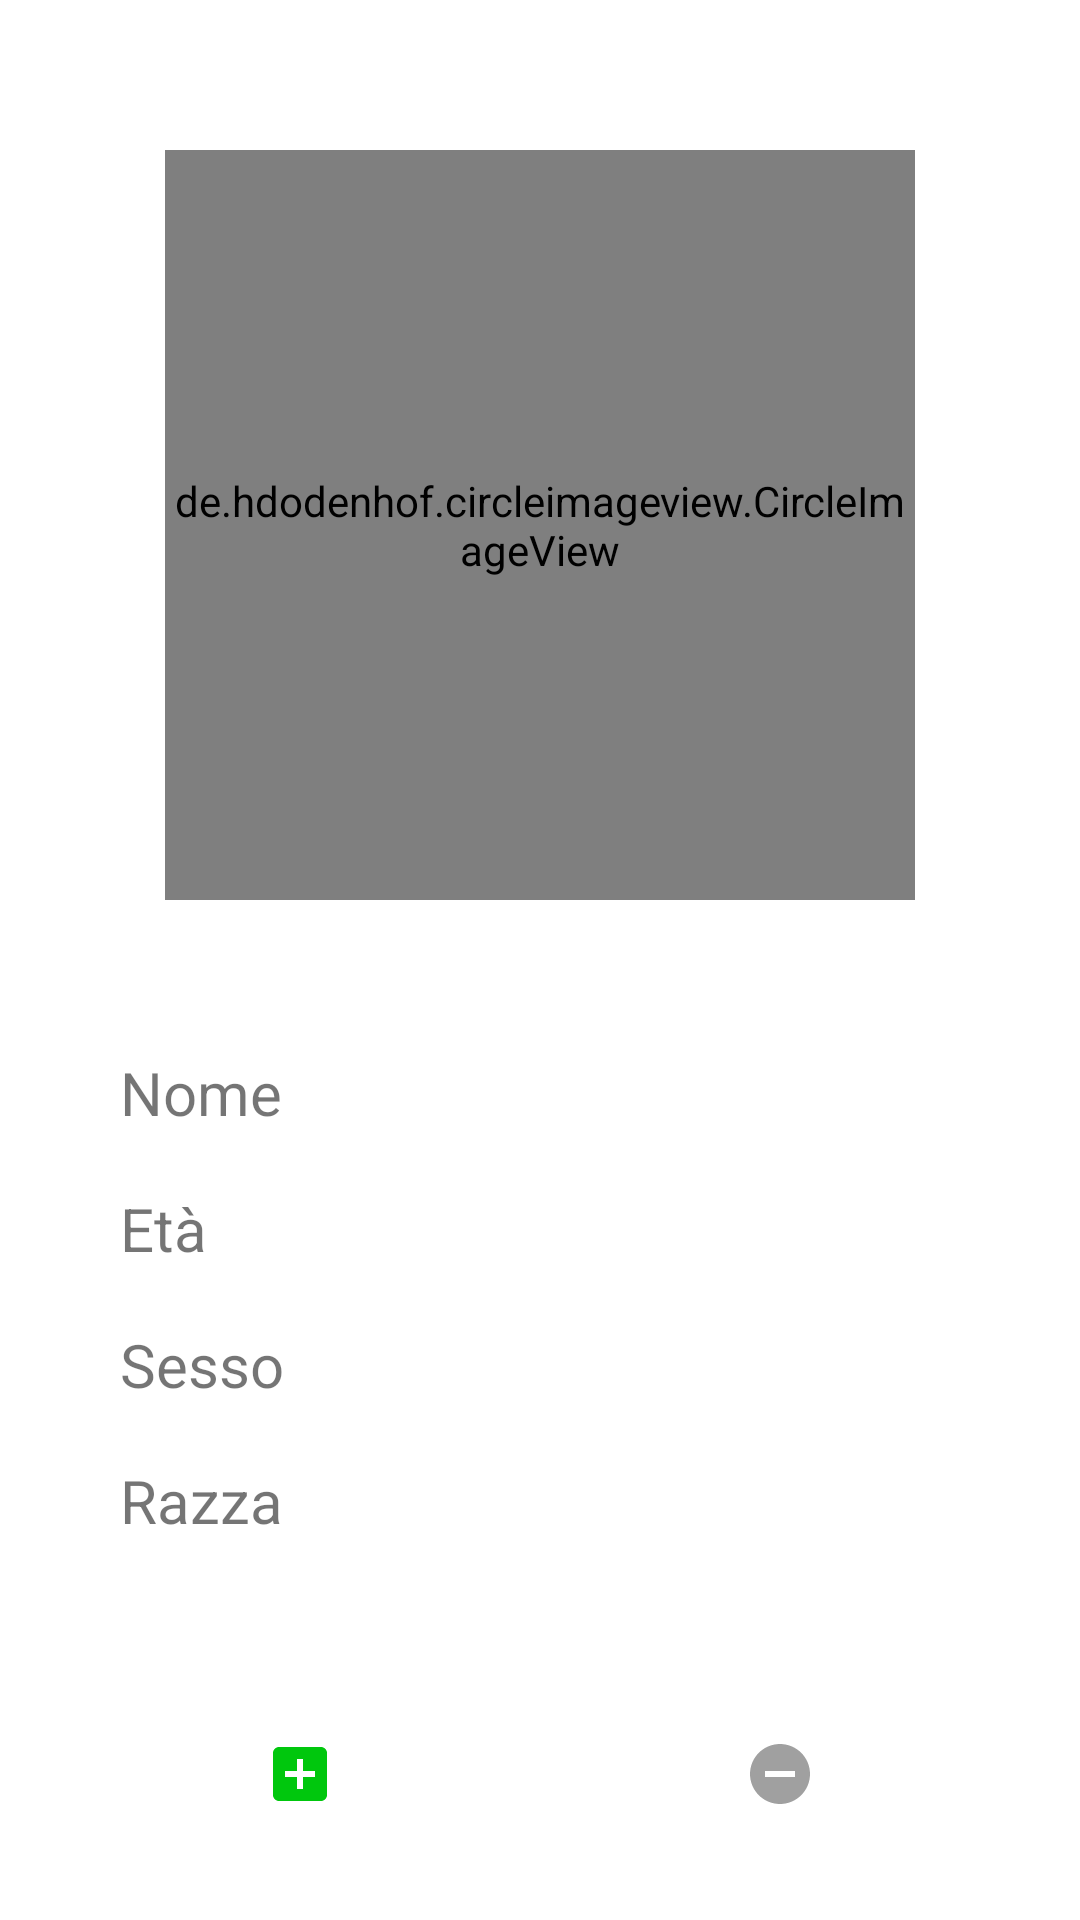

Icons on this 1080px x 1920px Android screen, each with its box as [left=x1, top=y1, right=x2, bottom=y2]:
add: [left=273, top=1747, right=327, bottom=1801]
remove: [left=750, top=1744, right=810, bottom=1804]
